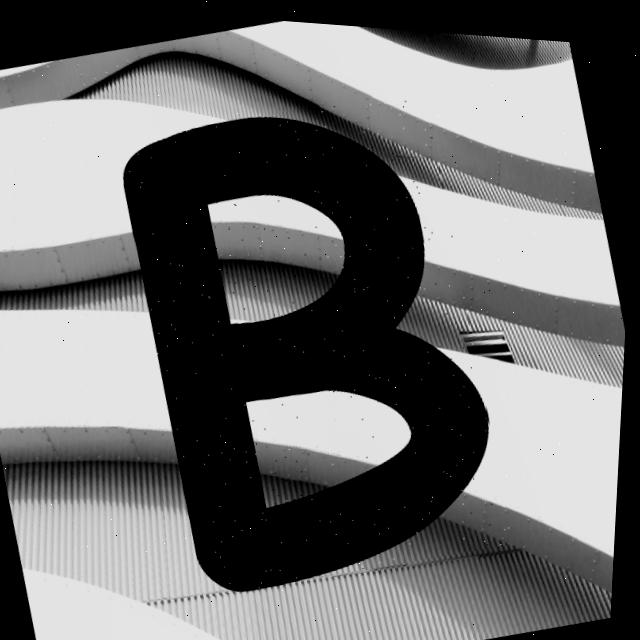B: (126, 112, 493, 586)
